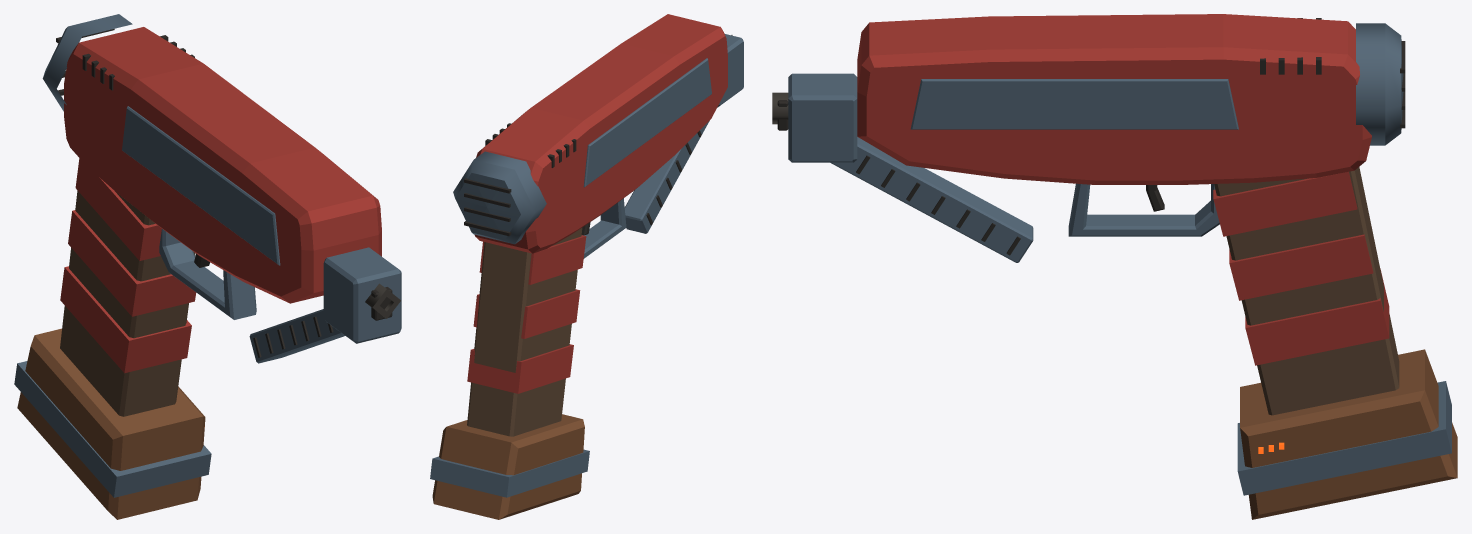
Rendered from BadGun_pistol_scrap_3.glb.
The picture shows the model from 3 angles, left to right: view 1: azimuth 30°, elevation 25°; view 2: azimuth 150°, elevation 25°; view 3: azimuth 270°, elevation 25°; orthographic projection. The views are drawn at different scales.
Parts seen in each view (by area): view 1: Frame, Grip, Magazine, Barrel; view 2: Frame, Grip, Magazine, Barrel; view 3: Frame, Grip, Magazine, Barrel.
Part boxes in pixels (box(x1,y1,x2,y2)): Frame: box(42, 14, 381, 363); Grip: box(60, 158, 196, 416); Magazine: box(14, 328, 211, 519); Barrel: box(323, 247, 401, 343); Frame: box(453, 14, 727, 258); Grip: box(467, 228, 586, 436); Magazine: box(430, 414, 589, 519); Barrel: box(717, 34, 743, 107); Frame: box(830, 14, 1405, 262); Grip: box(1213, 167, 1399, 415); Magazine: box(1237, 349, 1457, 519); Barrel: box(772, 73, 857, 162).
Size of the model in its own units: 0.0461 by 0.1945 by 0.2577.
